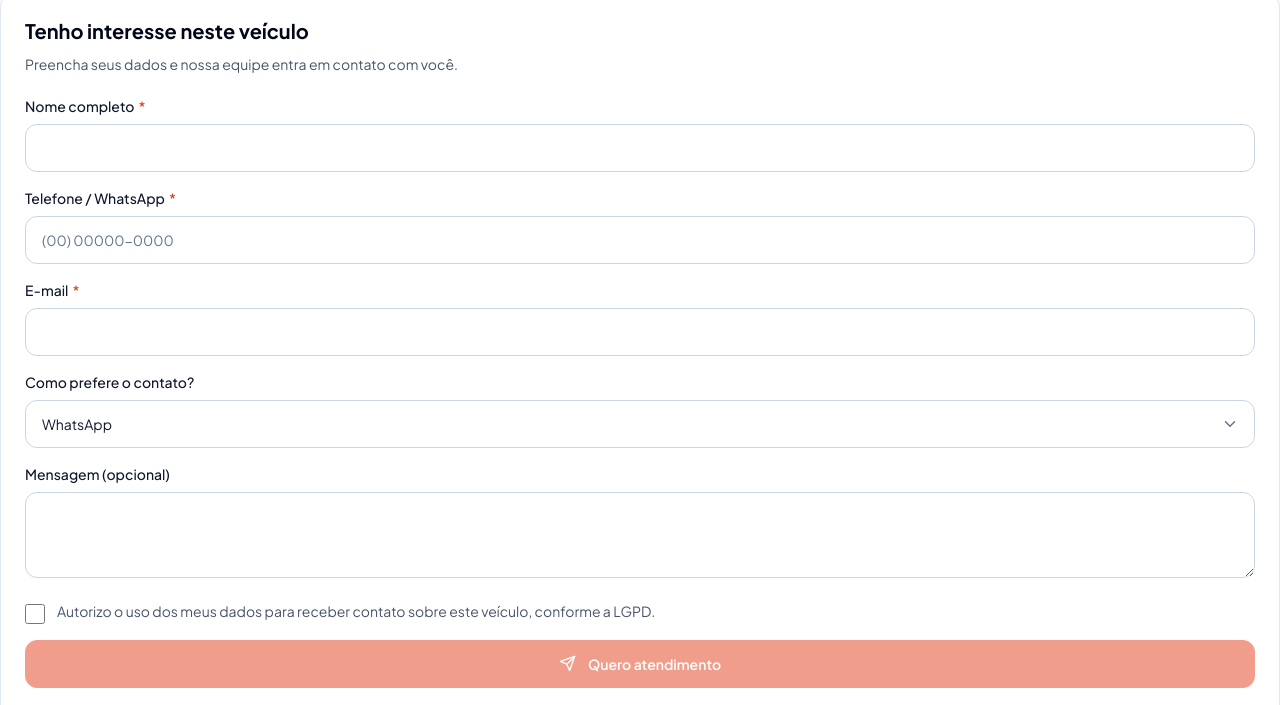
Test: impede envio duplicado enquanto a solicitação está em andamento
Step 1. Type "  Maria Silva  " into the field labelled "Nome completo" → (640, 148), box [25,124,1255,172]
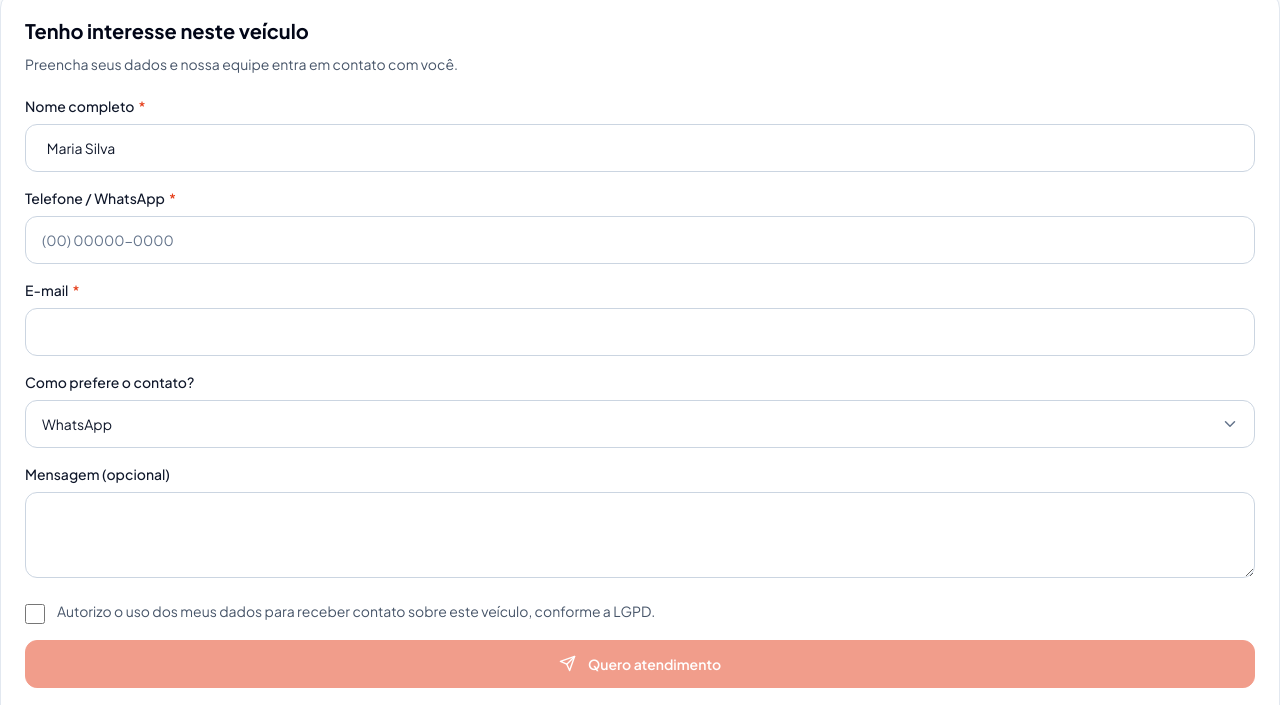
Step 2. Type "11987654321" into the field labelled "Telefone / WhatsApp" → (640, 240), box [25,216,1255,264]
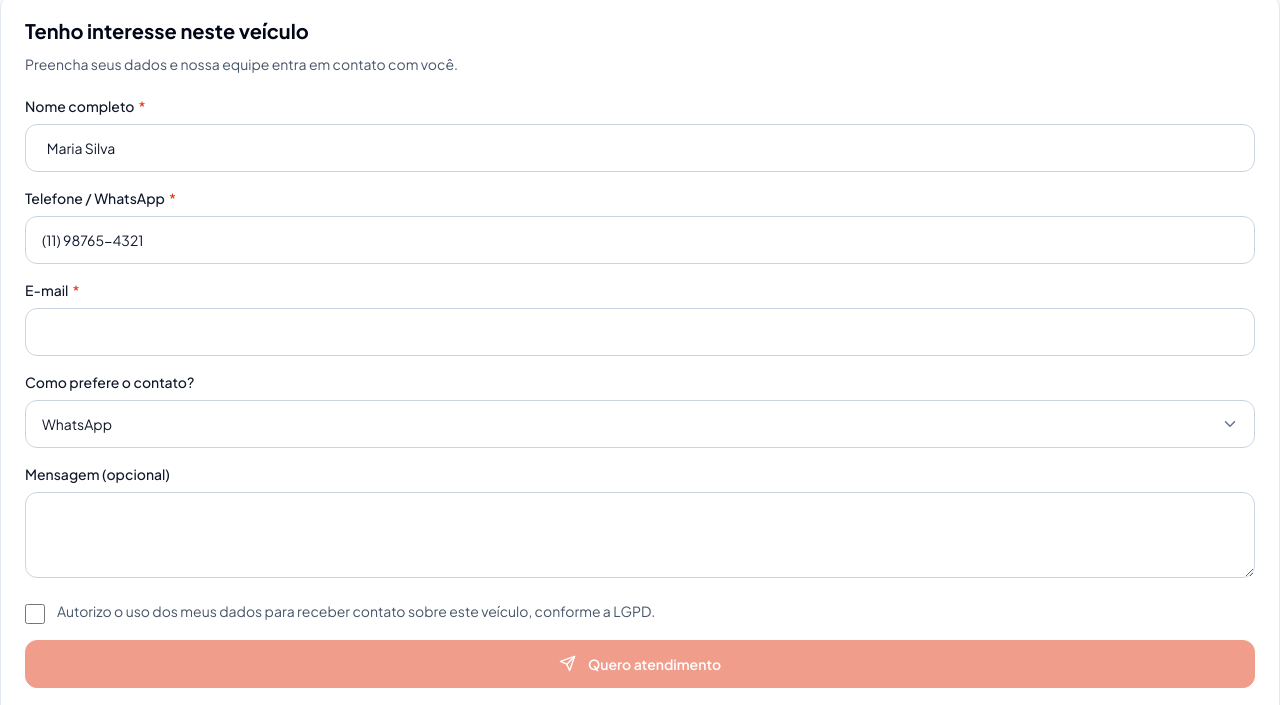
Step 3. Type "maria@example.com" into the field labelled "E-mail" → (640, 332), box [25,308,1255,356]
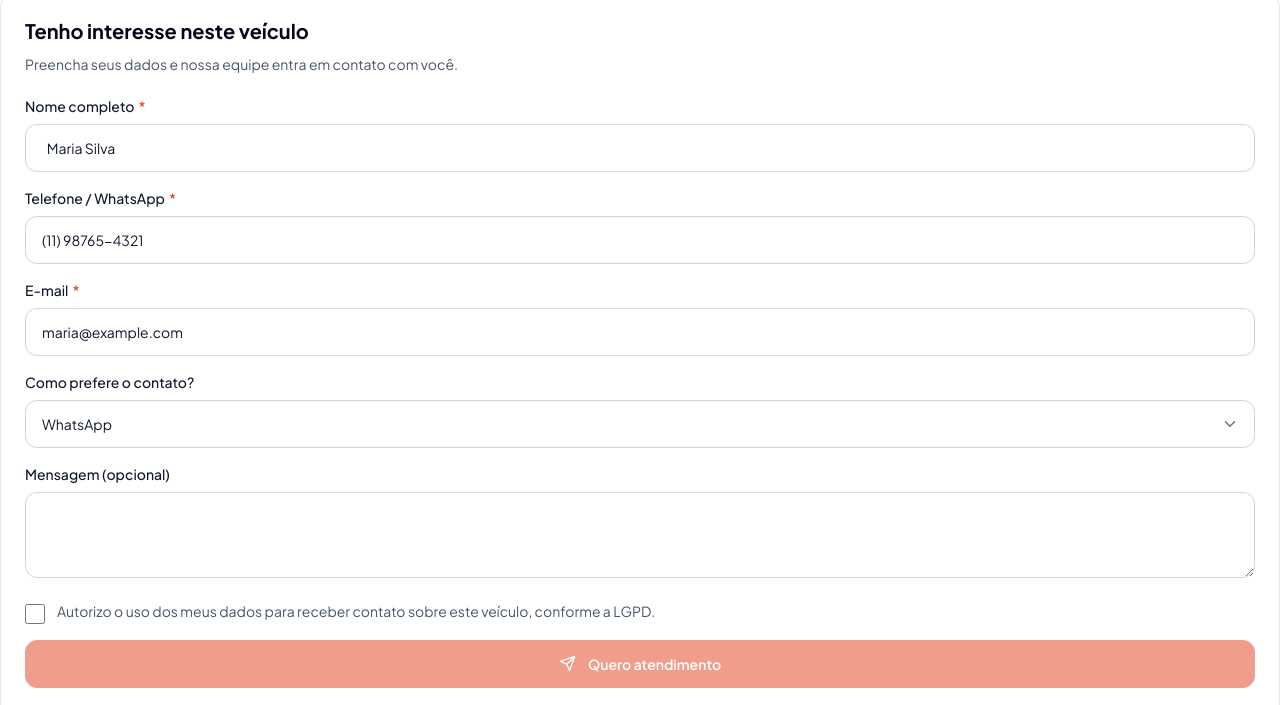
Step 4. Click the checkbox → (35, 614), box [25,604,45,624]
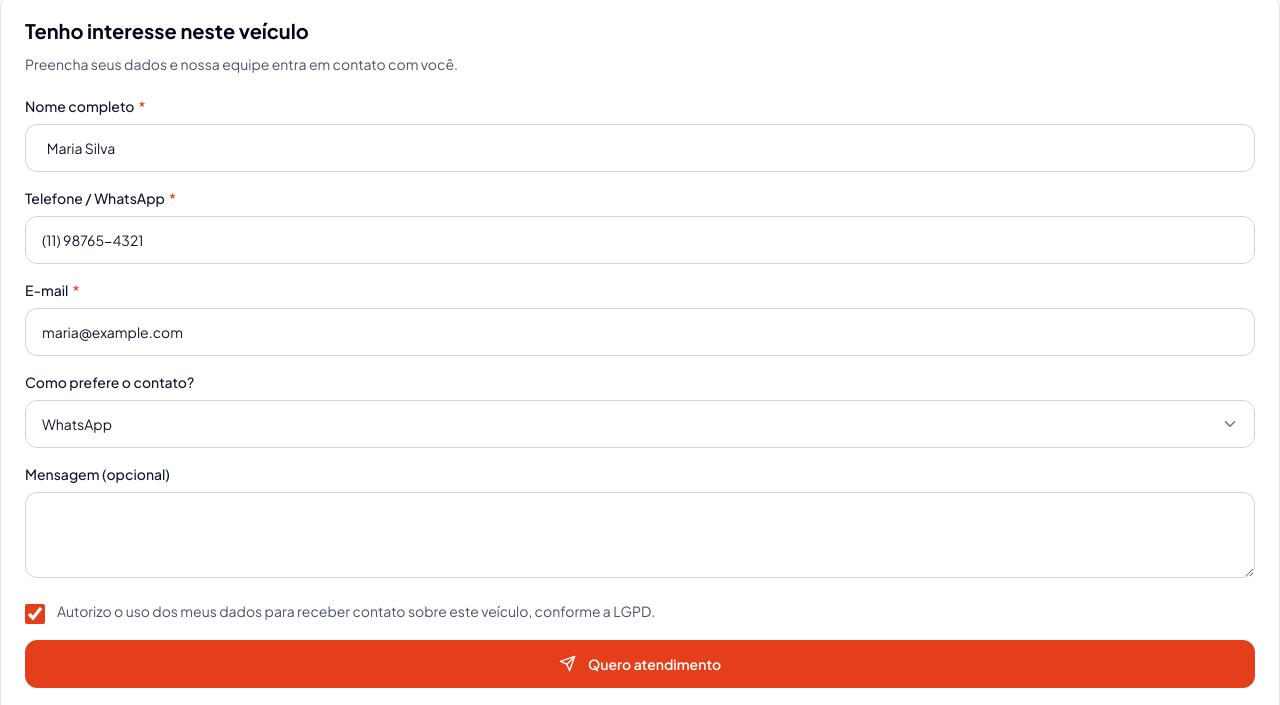
Step 5. Click the button "Quero atendimento" → (640, 664), box [25,640,1255,688]
(page scrolled)
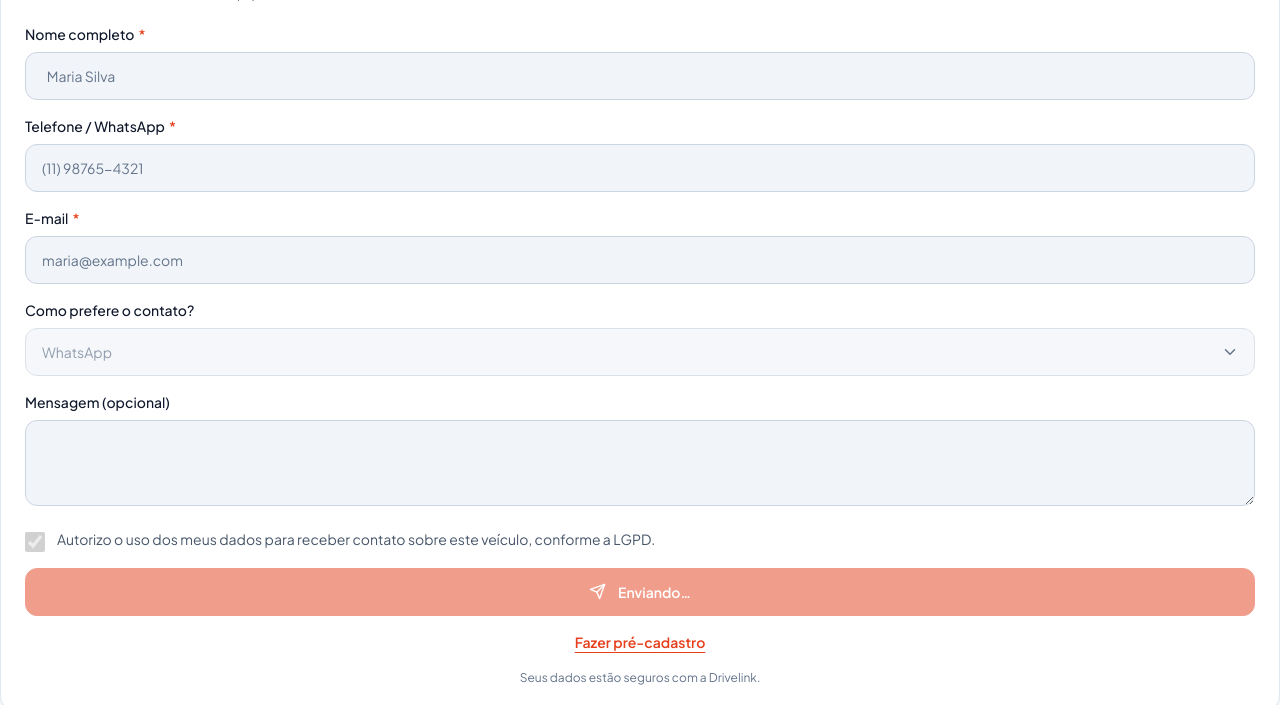
Expected: the button "Enviando…" is disabled, [25,568,1255,616]
Step 6. Submit the form named "Interesse no veículo"
(page scrolled)
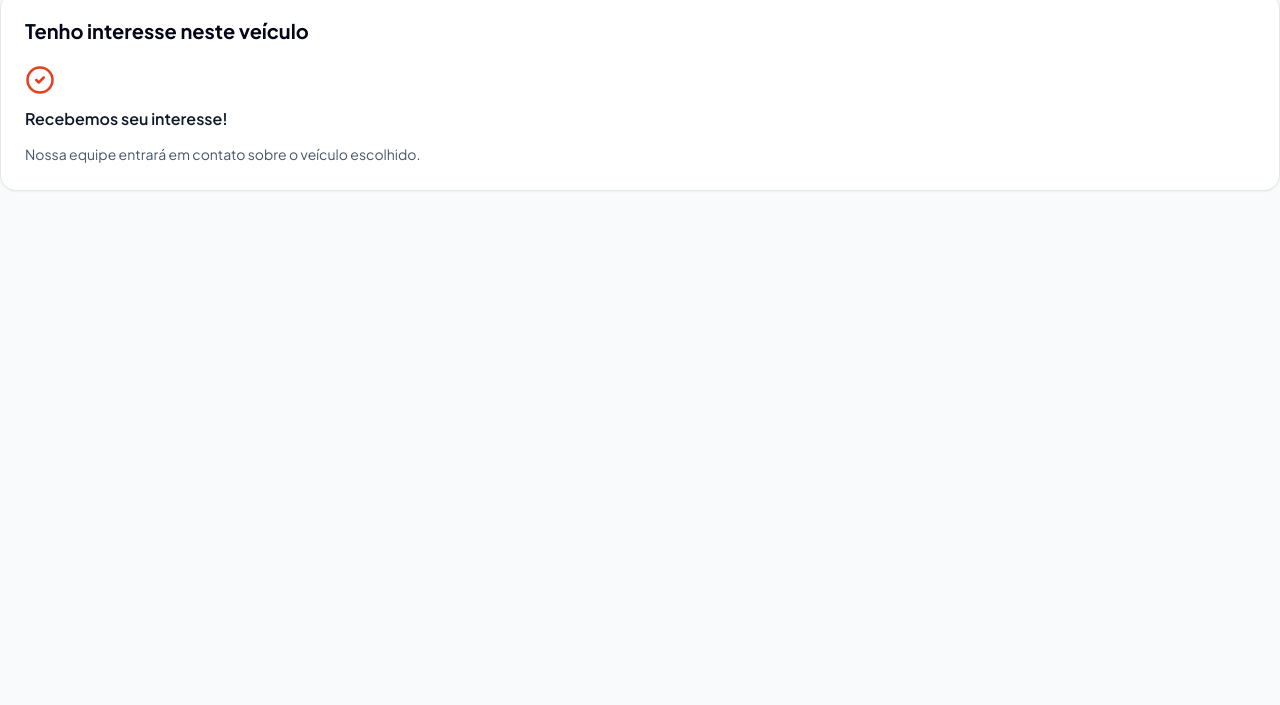
Expected: the text "Recebemos seu interesse!" is shown, [25,108,228,129]
